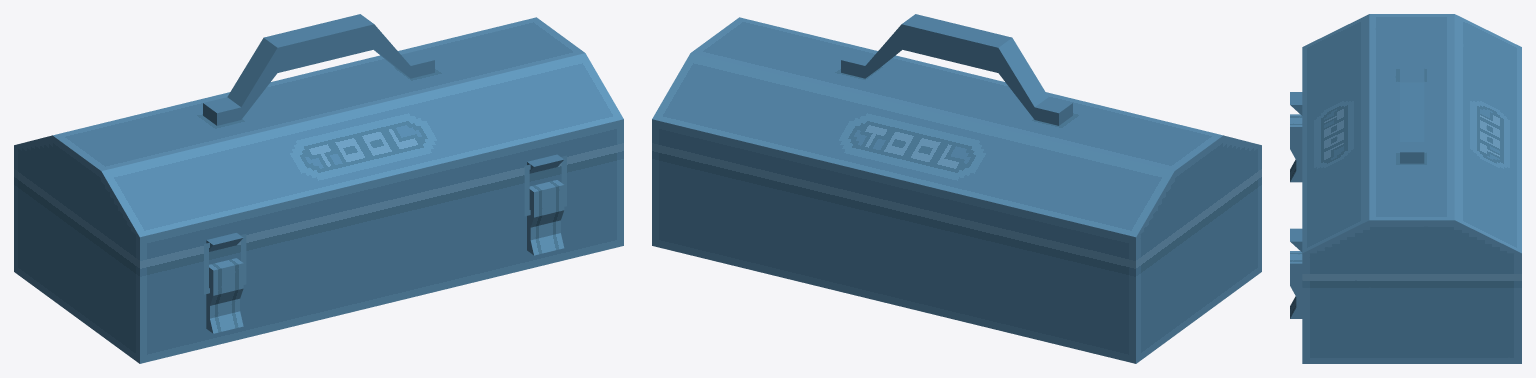
File: 035f_Toolbox.glb
The picture shows the model from 3 angles, left to right: view 1: azimuth 30°, elevation 25°; view 2: azimuth 150°, elevation 25°; view 3: azimuth 270°, elevation 25°; orthographic projection. The views are drawn at different scales.
Visible parts, largest first — view 1: part_0; view 2: part_0; view 3: part_0.
Part boxes in pixels (left/top/right/bottom): part_0: left=14, top=14, right=623, bottom=363; part_0: left=652, top=14, right=1261, bottom=363; part_0: left=1290, top=14, right=1521, bottom=363.
Size of the model in its own units: 0.4 by 0.18 by 0.19.
Materials: 1 (1 with a texture image).
